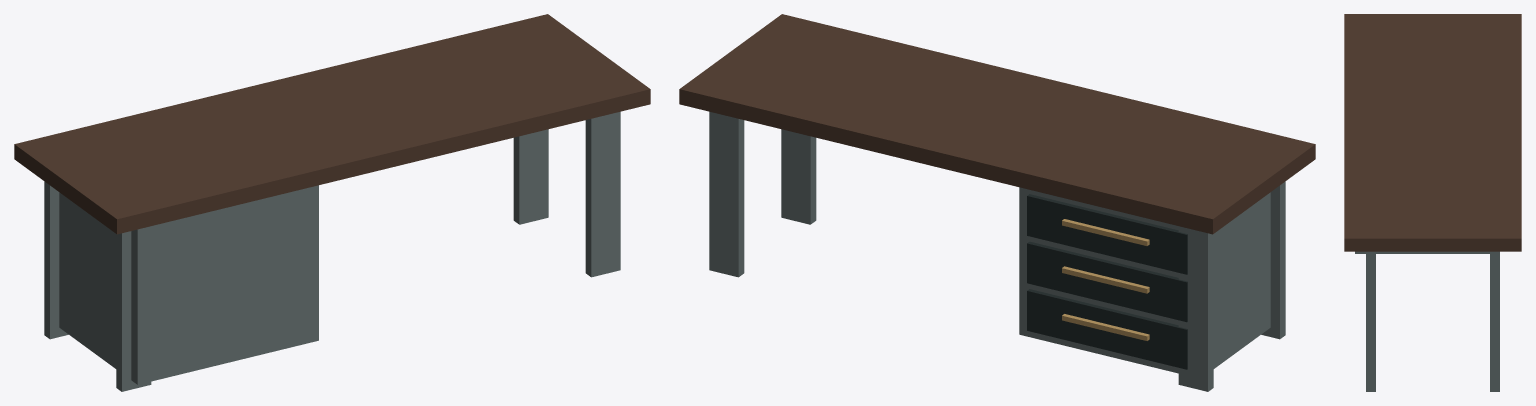
File: LP_Security_MonitorDesk.fbx
3 views of the same model, side by side, from view 1: azimuth 30°, elevation 25°; view 2: azimuth 150°, elevation 25°; view 3: azimuth 270°, elevation 25° (orthographic). The views are drawn at different scales.
Visible parts, largest first — view 1: Walnut, M_Museum_BrushedMetal; view 2: Walnut, M_Museum_BrushedMetal, Charcoal, AgedBrass; view 3: Walnut, M_Museum_BrushedMetal.
Part boxes in pixels (bbox=[...]): Walnut: bbox=[14, 14, 650, 234]; M_Museum_BrushedMetal: bbox=[44, 111, 620, 391]; Walnut: bbox=[679, 14, 1315, 234]; M_Museum_BrushedMetal: bbox=[709, 111, 1285, 391]; Charcoal: bbox=[1027, 194, 1187, 369]; AgedBrass: bbox=[1062, 219, 1149, 340]; Walnut: bbox=[1344, 14, 1521, 251]; M_Museum_BrushedMetal: bbox=[1355, 251, 1499, 391].
Bounding box in the file's own units: 240 × 80 × 80.
